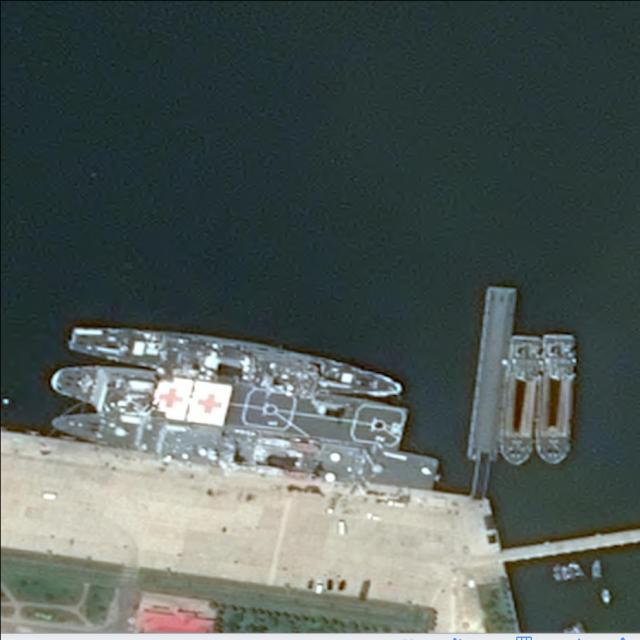Auxiliary Ships: (48, 355, 406, 451)
Landing: (50, 399, 441, 498)
Other Warship: (65, 312, 409, 409), (493, 334, 545, 465), (536, 333, 577, 464)
